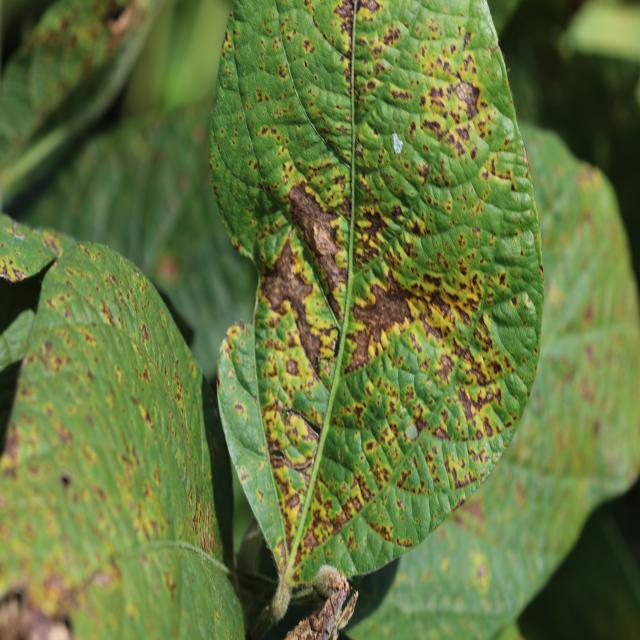Bacterial_Blight: (258, 215, 340, 382), (418, 242, 495, 339), (27, 2, 117, 78), (351, 272, 414, 363), (590, 394, 637, 476), (120, 467, 163, 543), (302, 584, 352, 640), (185, 476, 219, 553), (302, 155, 349, 205), (438, 119, 479, 167), (254, 123, 292, 170), (40, 571, 82, 610), (310, 210, 343, 256), (357, 206, 392, 245), (37, 338, 71, 375), (455, 384, 484, 425), (1, 420, 25, 468), (452, 80, 481, 118), (455, 493, 487, 526), (578, 365, 600, 406), (156, 254, 179, 282), (421, 117, 446, 139), (382, 24, 403, 48), (301, 524, 319, 551), (355, 473, 373, 500), (333, 0, 355, 22), (40, 234, 61, 256), (99, 304, 117, 329), (389, 86, 413, 102), (357, 0, 381, 15), (255, 86, 273, 105), (8, 265, 28, 282), (139, 406, 153, 428), (286, 492, 301, 512), (520, 141, 530, 168), (582, 303, 594, 324), (475, 562, 488, 581), (270, 448, 285, 464), (397, 535, 413, 548), (140, 323, 150, 342), (238, 467, 250, 482), (60, 472, 71, 488), (355, 143, 364, 160), (234, 401, 244, 415), (141, 367, 150, 382), (278, 65, 287, 79), (303, 40, 312, 53), (256, 488, 264, 502)
Soybean: (210, 0, 544, 630)
